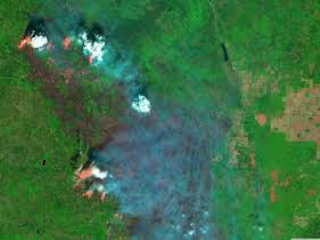fire: (75, 166, 93, 196), (60, 35, 74, 53), (16, 32, 30, 49)
smoke: (131, 94, 164, 116), (80, 34, 108, 56), (92, 162, 112, 180), (31, 34, 49, 52)
